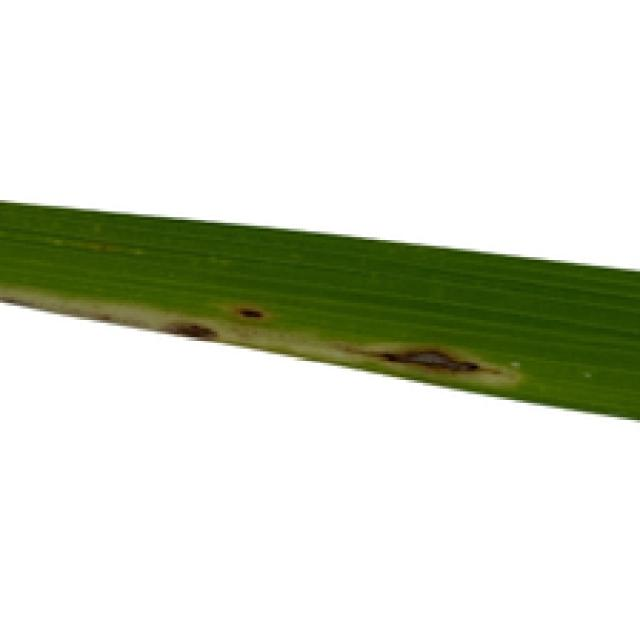Rice___Rice_Blast: (0, 203, 637, 425)
